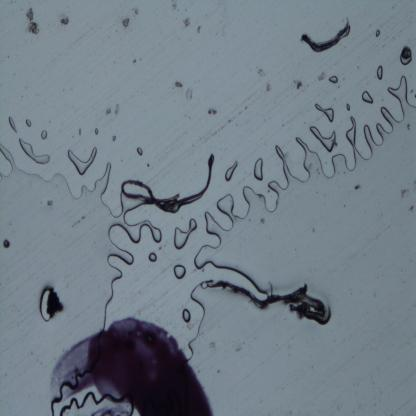Air bubble: (191, 72, 416, 274), (0, 142, 163, 311), (186, 284, 209, 359), (67, 145, 98, 176), (18, 140, 52, 164), (172, 218, 198, 249), (309, 128, 337, 154), (314, 100, 336, 124), (46, 292, 63, 316), (225, 159, 239, 182), (253, 155, 265, 180), (172, 262, 187, 280), (361, 90, 374, 105), (8, 116, 18, 134), (181, 307, 191, 325), (40, 128, 49, 142), (327, 74, 339, 84), (147, 253, 159, 263), (24, 116, 33, 129), (376, 65, 383, 81), (136, 146, 143, 158), (375, 30, 381, 38), (94, 128, 99, 135), (346, 104, 350, 112)
Background material: (24, 7, 42, 36), (288, 74, 304, 92), (401, 45, 412, 64), (184, 87, 194, 103), (1, 235, 12, 249), (398, 185, 408, 200), (204, 107, 218, 117), (113, 103, 122, 118), (262, 82, 274, 93), (408, 200, 416, 214), (121, 17, 131, 28), (171, 1, 179, 14), (257, 65, 265, 78), (174, 80, 184, 90), (182, 18, 192, 28), (62, 15, 70, 27), (134, 4, 142, 16), (45, 198, 55, 207), (355, 183, 362, 192), (104, 108, 112, 115), (197, 24, 202, 34), (110, 134, 116, 142), (78, 128, 82, 136), (132, 58, 136, 65)
Cellulose filter fibre: (208, 278, 331, 323), (299, 16, 353, 52)
Microfibre: (117, 153, 218, 211)
Pen: (40, 315, 215, 415)
